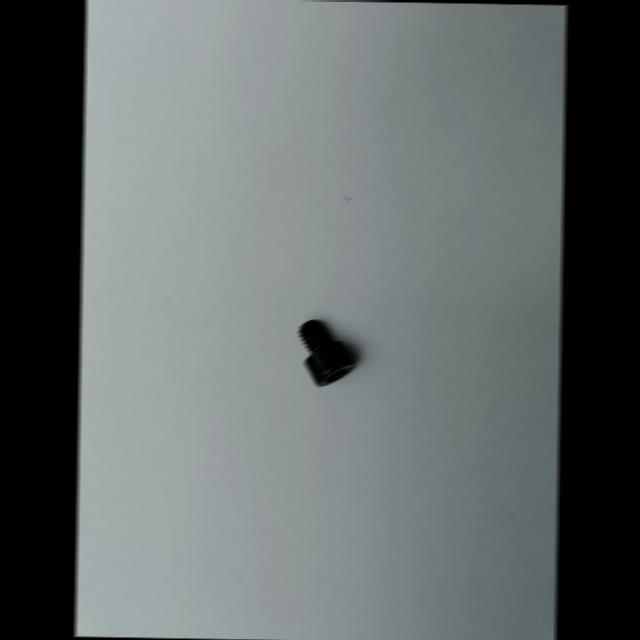bolt: (298, 319, 354, 386)
